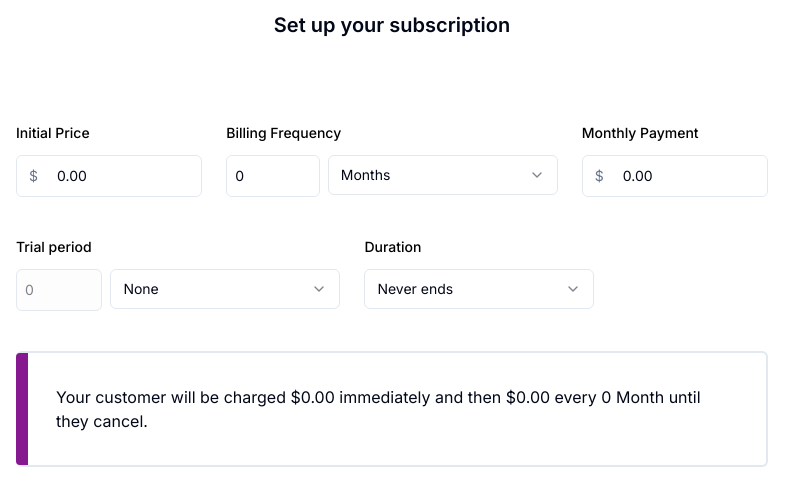
Test: Duration › should show correct value
Click the dropdown with test id "duration". click: click(479, 289)
box: [364,269,594,309]
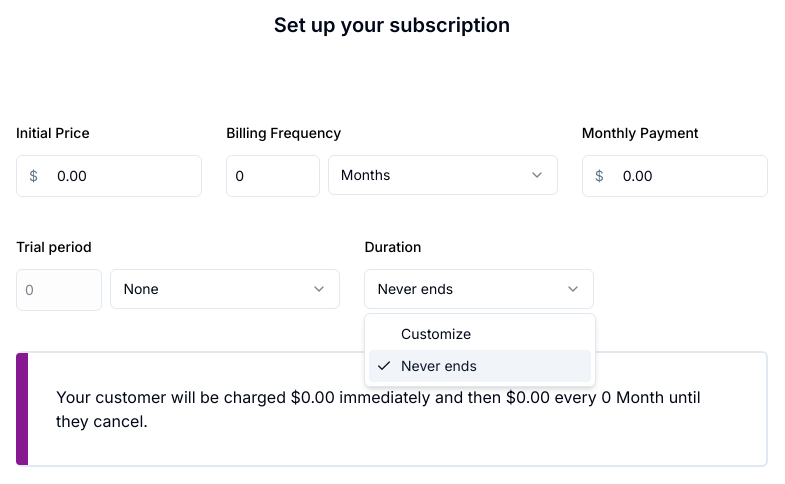
Click the option with test id "duration_Never ends". click: click(480, 366)
box: [369,350,591,382]
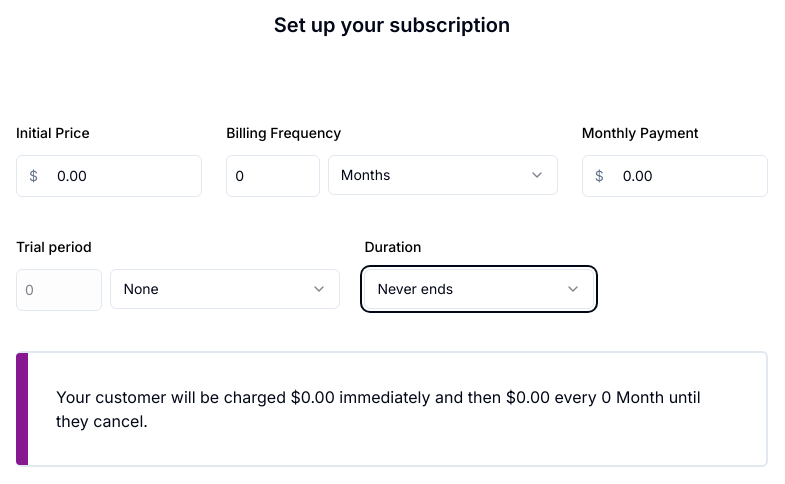
Click the dropdown with test id "duration". click: click(479, 289)
box: [364,269,594,309]
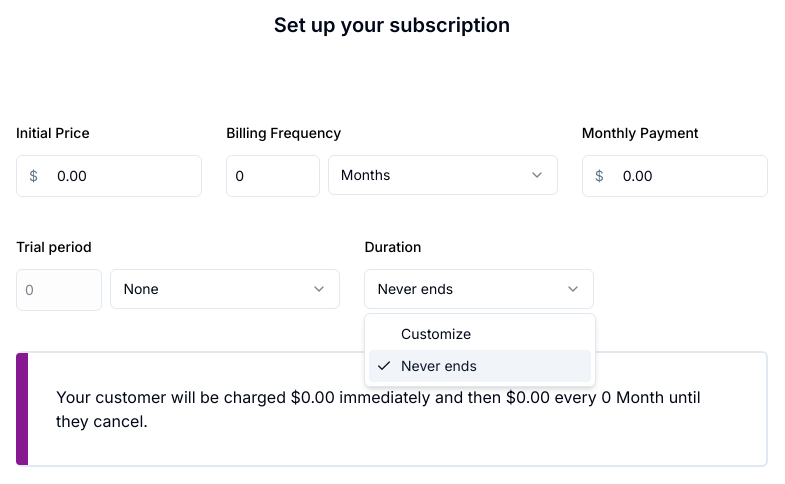
Click the option with test id "duration_Customize". click: click(436, 334)
box: [401,325,471,342]
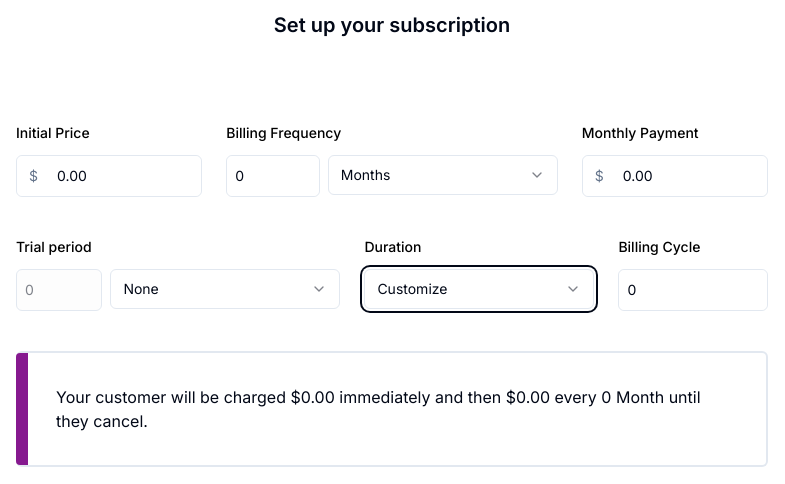
Now the dropdown "Customize" is shown, box [364,269,594,309]
